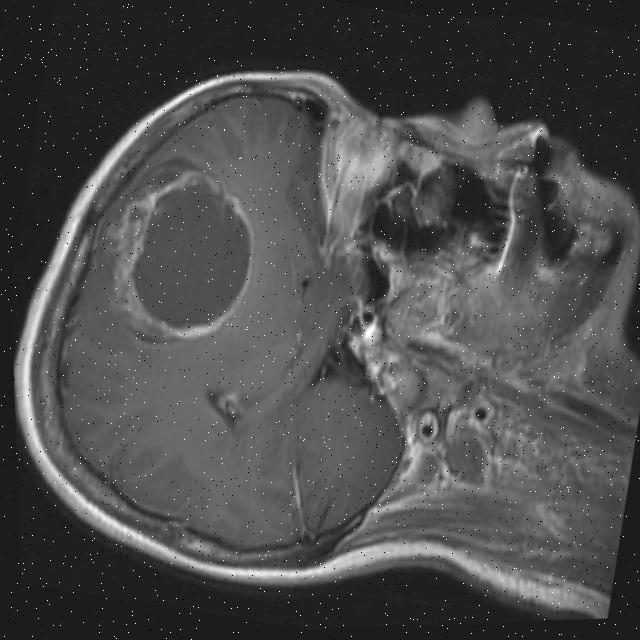Glioma: (81, 152, 275, 361)
